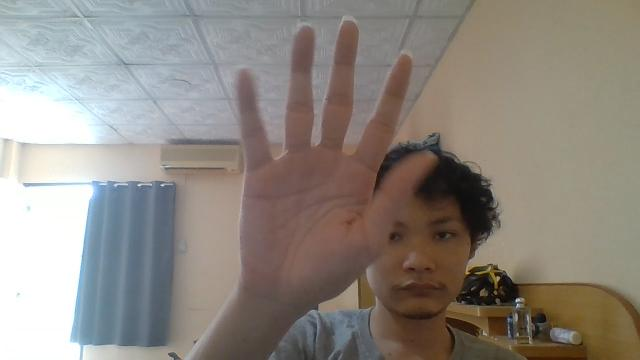Stop: (231, 15, 414, 308)
